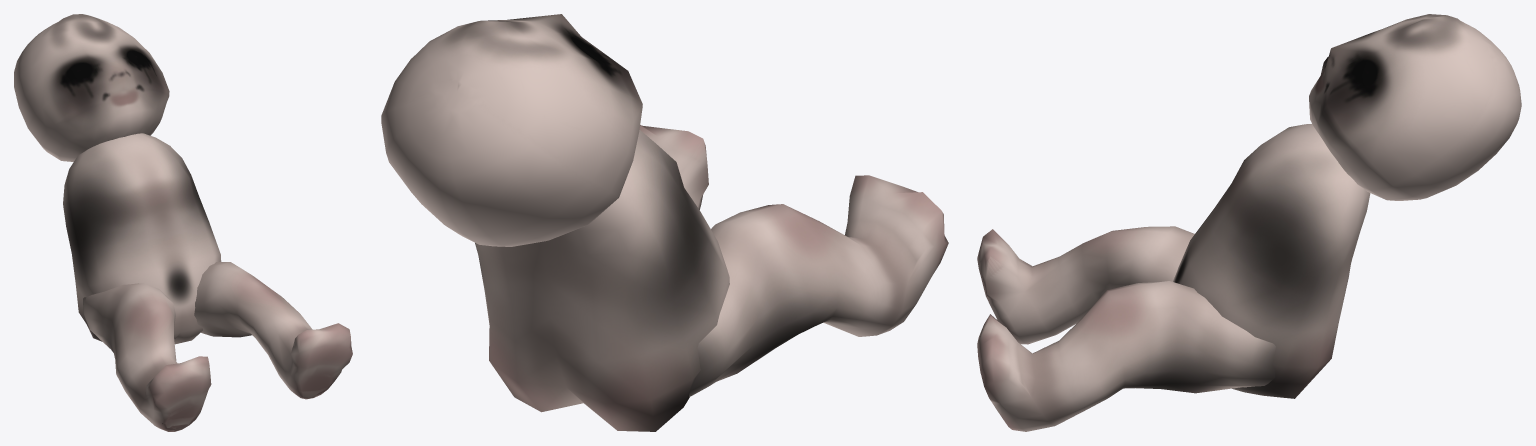
File: Doll01.FBX
3 renders of one model, left to right at view 1: azimuth 30°, elevation 25°; view 2: azimuth 150°, elevation 25°; view 3: azimuth 270°, elevation 25°, orthographic. The views are drawn at different scales.
Parts seen in each view (by area): view 1: Doll_Low007; view 2: Doll_Low007; view 3: Doll_Low007.
Part boxes in pixels (<box>): Doll_Low007: <box>14,14,352,431</box>; Doll_Low007: <box>381,14,948,431</box>; Doll_Low007: <box>977,14,1521,431</box>.
Size of the model in its own units: 82.63 by 110 by 150.
